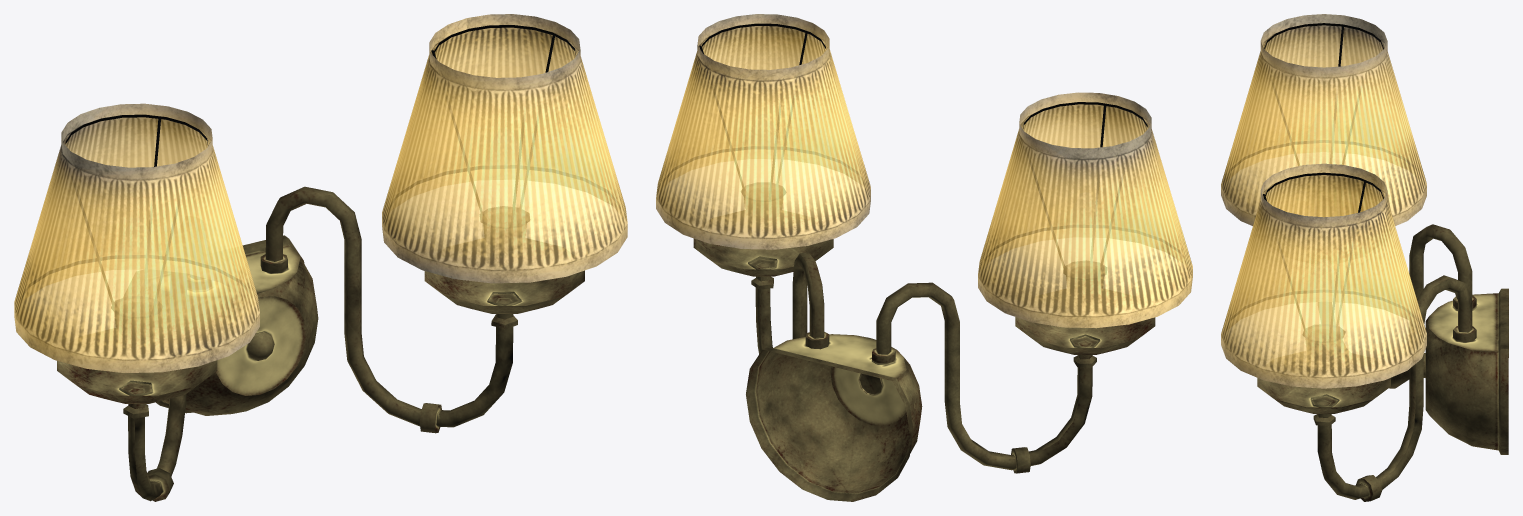
File: wall_light.glb
3 renders of one model, left to right at view 1: azimuth 30°, elevation 25°; view 2: azimuth 150°, elevation 25°; view 3: azimuth 270°, elevation 25°, orthographic. The views are drawn at different scales.
Visible parts, largest first — view 1: WallLight; view 2: WallLight; view 3: WallLight.
Part boxes in pixels (x1,y1,x2,y2): WallLight: (14, 14, 627, 501); WallLight: (656, 14, 1192, 501); WallLight: (1221, 14, 1508, 501).
Bounding box in the file's own units: 96.99 × 63.37 × 49.85.
1 material, 1 textured.
